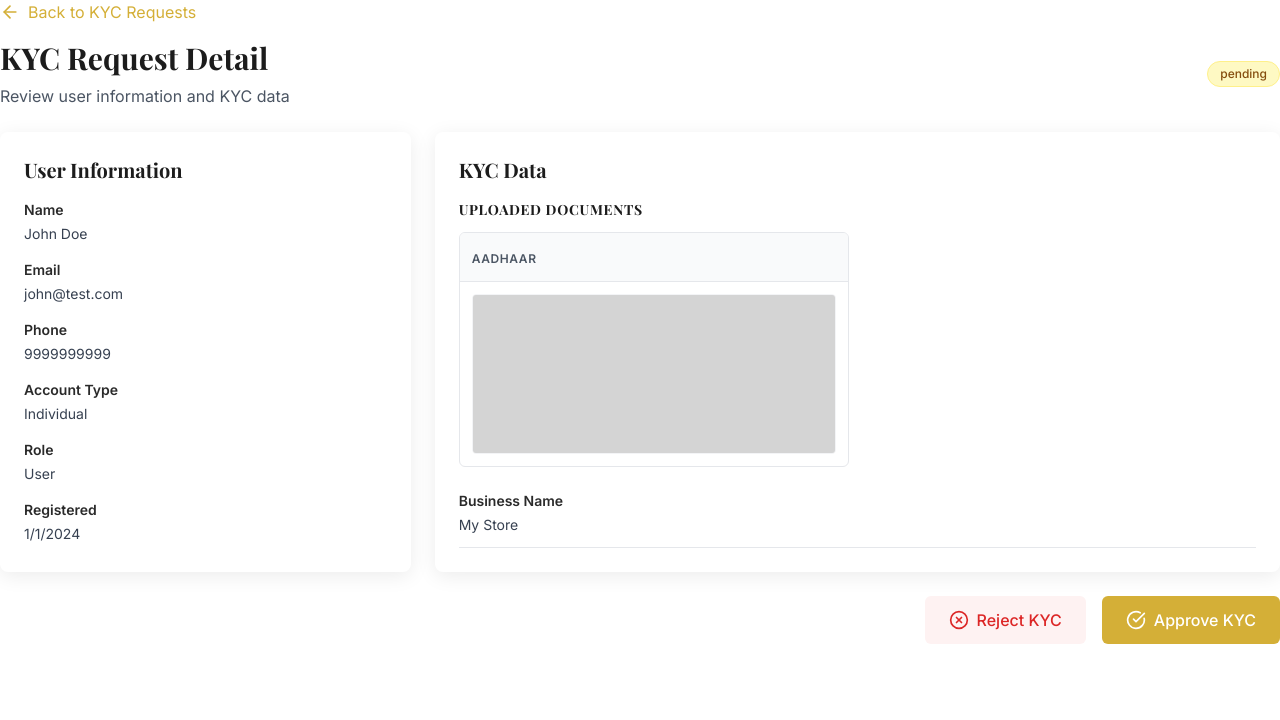
Test case: KYCDetail › shows error when rejecting without a reason
Click the button "Reject KYC" at coordinates (1005, 620), box [925, 596, 1086, 644]
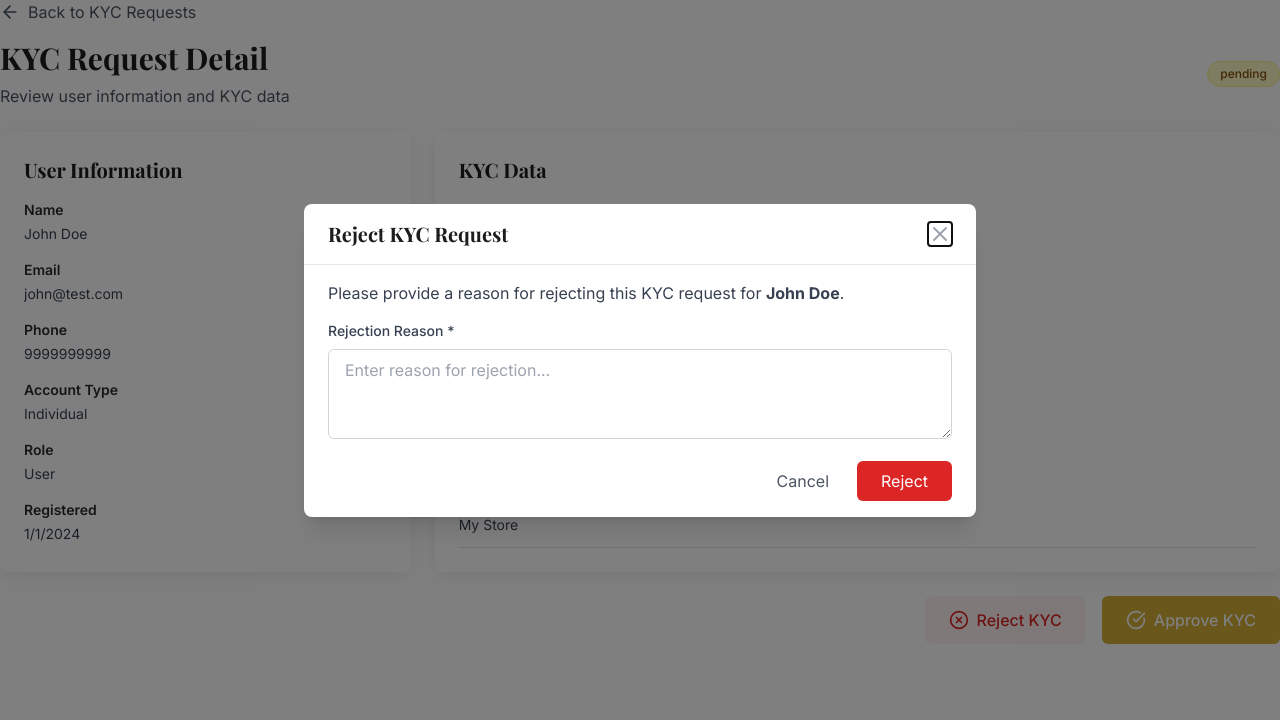
Click the button "Reject" at coordinates (904, 480), box [857, 460, 952, 500]
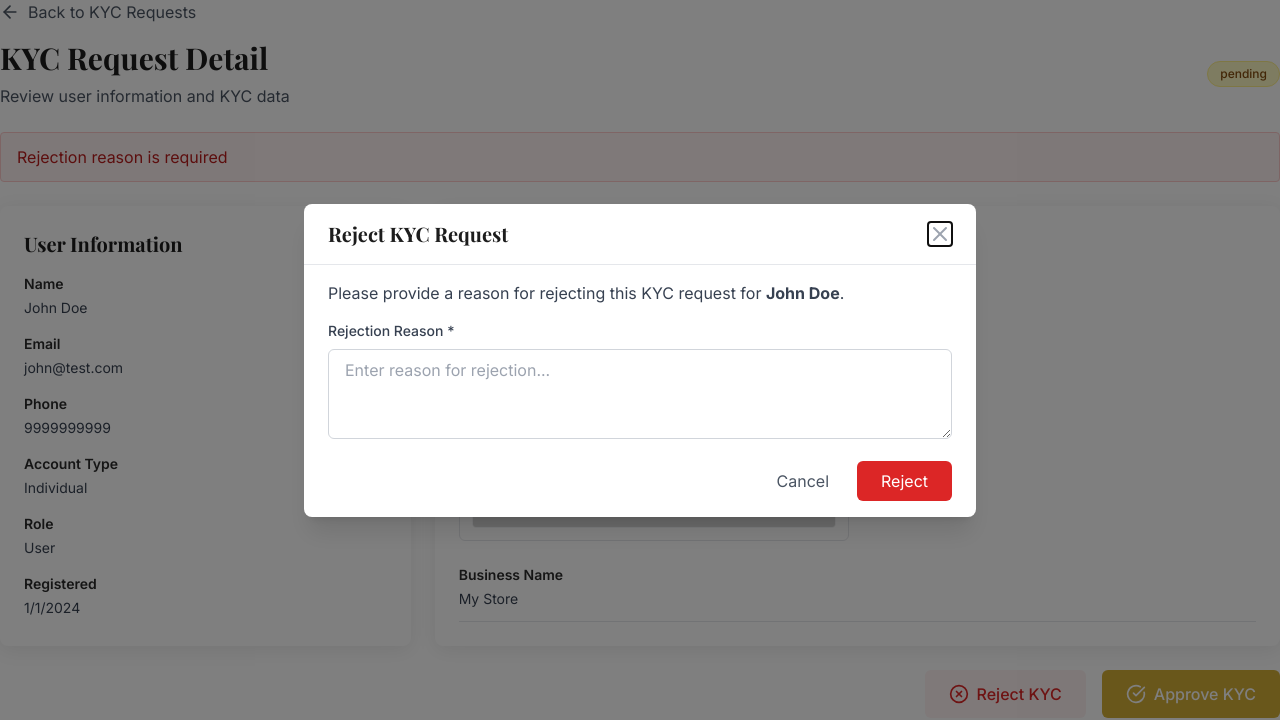
Now the text "Rejection reason is required" is shown, box [0, 132, 1279, 182]
